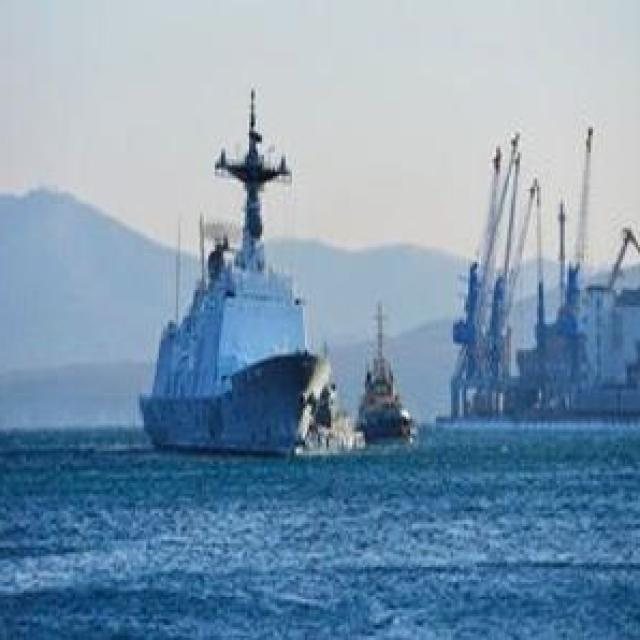navalvessels: (140, 86, 330, 455), (358, 297, 419, 445), (302, 341, 355, 457)
